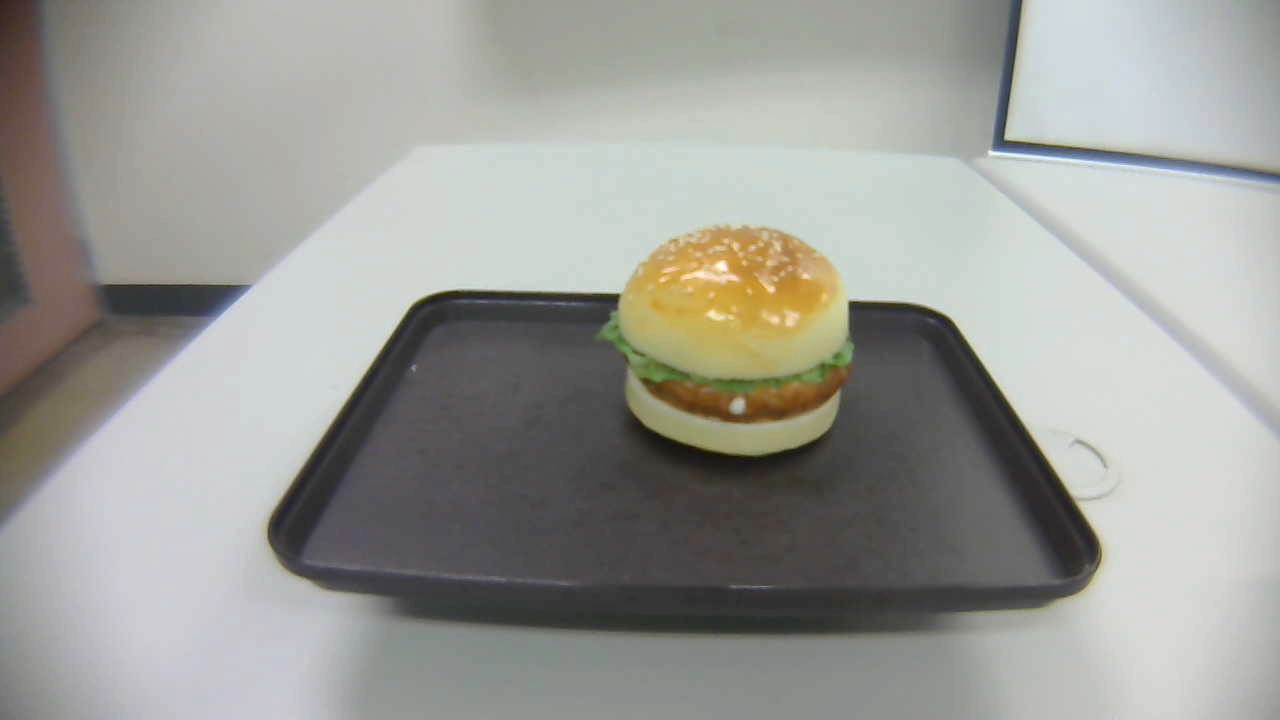hamburger: (595, 224, 856, 458)
